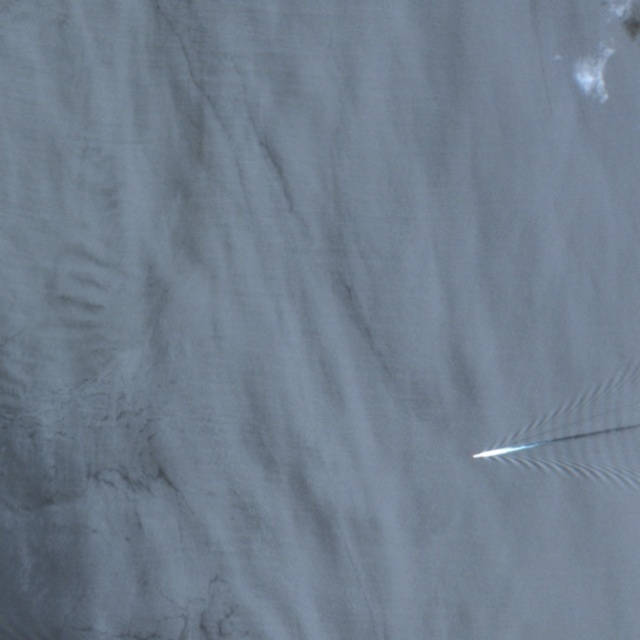wake: (456, 393, 618, 499)
